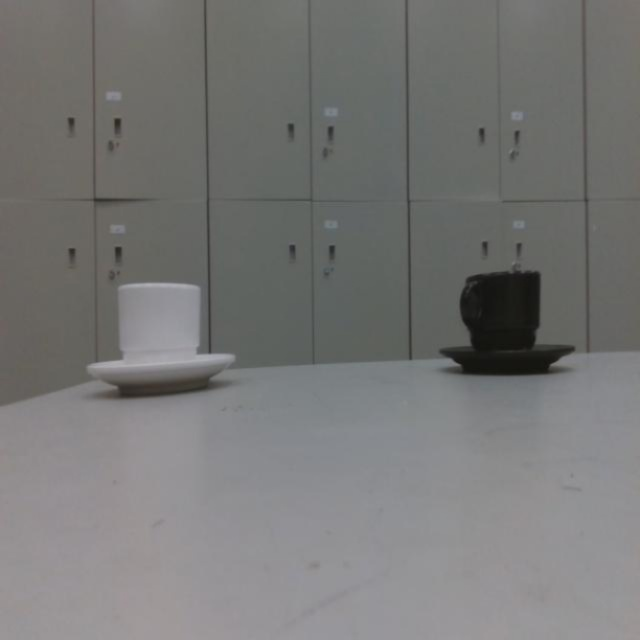black: (436, 268, 575, 376)
white: (85, 275, 238, 400)
